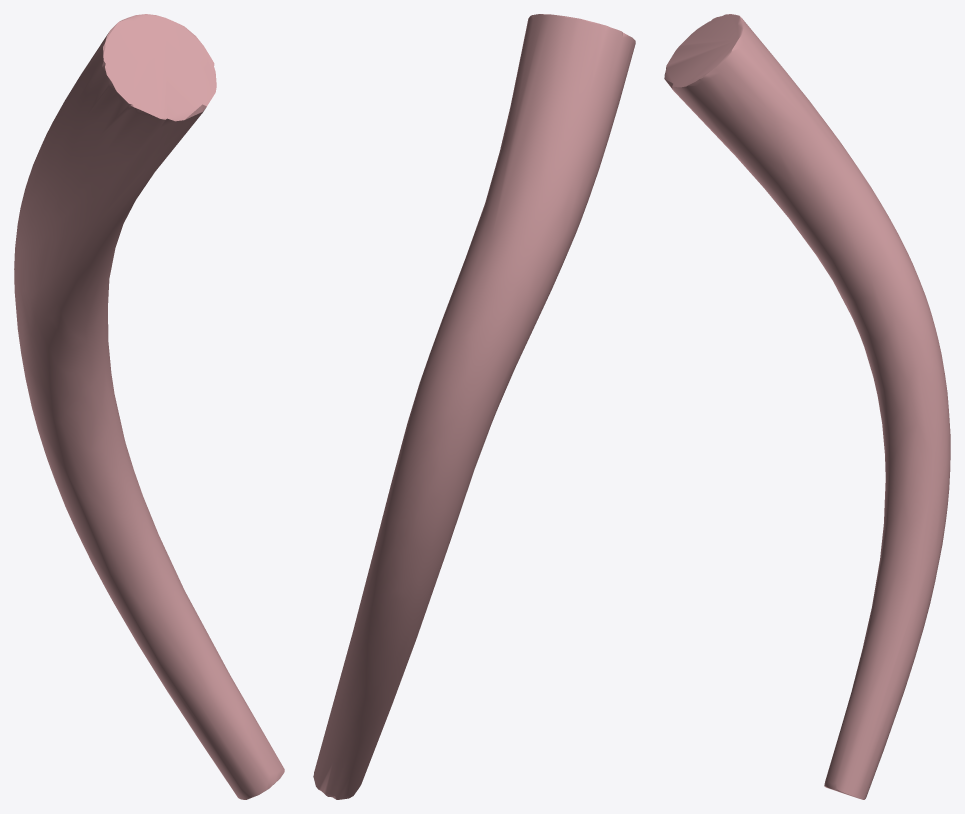
Rendered from fma68216_fj6580.glb.
The picture shows the model from 3 angles, left to right: view 1: azimuth 30°, elevation 25°; view 2: azimuth 150°, elevation 25°; view 3: azimuth 270°, elevation 25°; orthographic projection. The views are drawn at different scales.
Parts seen in each view (by area): view 1: FMA68216_FJ6580; view 2: FMA68216_FJ6580; view 3: FMA68216_FJ6580.
Boxes of the visible parts, bbox=[...] form: FMA68216_FJ6580: bbox=[14, 14, 284, 799]; FMA68216_FJ6580: bbox=[313, 14, 635, 799]; FMA68216_FJ6580: bbox=[664, 14, 950, 799].
Bounding box in the file's own units: 0.0125 × 0.0387 × 0.0142.
